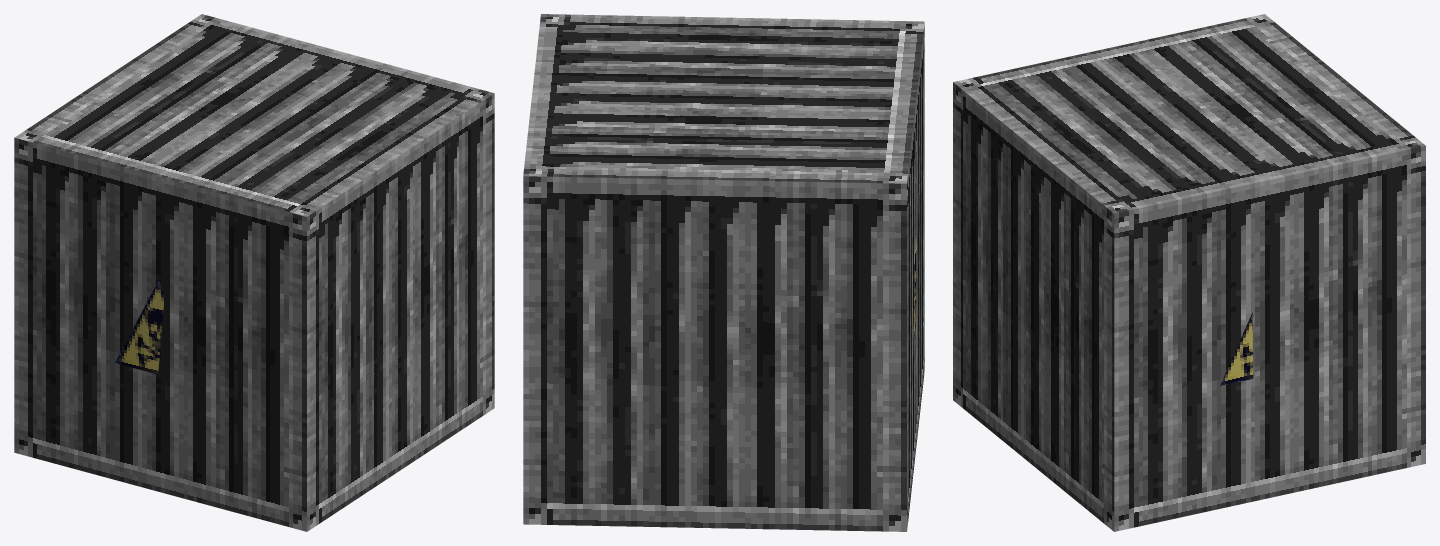
The model's file is primary_375.glb.
The picture shows the model from 3 angles, left to right: view 1: azimuth 30°, elevation 25°; view 2: azimuth 150°, elevation 25°; view 3: azimuth 270°, elevation 25°; orthographic projection. The views are drawn at different scales.
Parts seen in each view (by area): view 1: Object; view 2: Object; view 3: Object.
Part boxes in pixels (<box>): Object: <box>14,14,494,531</box>; Object: <box>523,14,924,531</box>; Object: <box>953,14,1425,531</box>.
Bounding box in the file's own units: 1.78 × 1.32 × 1.78.
2 materials, 2 textured.
